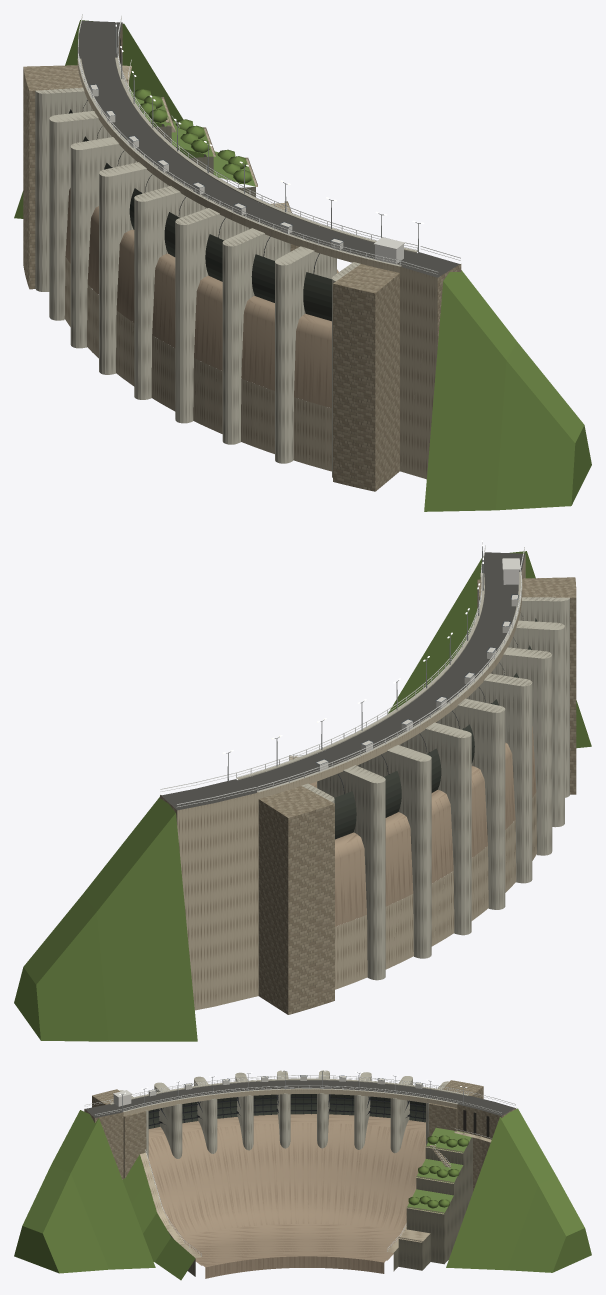
Rendered from rawal_dam_spillway.glb.
3 renders of one model, top to bottom at view 1: azimuth 30°, elevation 25°; view 2: azimuth 150°, elevation 25°; view 3: azimuth 270°, elevation 25°, orthographic. The views are drawn at different scales.
Visible parts, largest first — view 1: m_pier_concrete, m_hill_bank, m_deck_fascia, m_stone_masonry, m_chute_concrete, m_road_surface, m_gate_steel, m_white_rail, m_kerb, m_terrace_grass, m_hoist_housing, m_gate_hut; view 2: m_pier_concrete, m_hill_bank, m_deck_fascia, m_stone_masonry, m_road_surface, m_chute_concrete, m_white_rail, m_kerb, m_gate_steel, m_hoist_housing; view 3: m_chute_concrete, m_hill_bank, m_pier_concrete, m_stone_masonry, m_stained_wall, m_road_surface, m_deck_fascia, m_gate_steel, m_white_rail, m_terrace_grass, m_gate_arm, m_kerb (+1 smaller).
Part boxes in pixels (box(x1,y1,x2,y2)): m_pier_concrete: box(35, 87, 360, 477); m_hill_bank: box(14, 20, 591, 511); m_deck_fascia: box(64, 60, 437, 479); m_stone_masonry: box(23, 23, 461, 491); m_chute_concrete: box(65, 188, 338, 407); m_road_surface: box(77, 21, 459, 277); m_gate_steel: box(68, 109, 331, 321); m_white_rail: box(78, 14, 460, 274); m_kerb: box(77, 57, 417, 266); m_terrace_grass: box(129, 91, 255, 186); m_hoist_housing: box(90, 84, 343, 249); m_gate_hut: box(373, 237, 404, 264); m_pier_concrete: box(301, 597, 569, 980); m_hill_bank: box(14, 551, 591, 1041); m_deck_fascia: box(177, 553, 536, 1010); m_stone_masonry: box(160, 577, 576, 1014); m_road_surface: box(161, 552, 525, 810); m_chute_concrete: box(310, 726, 536, 926); m_white_rail: box(160, 545, 524, 806); m_kerb: box(236, 572, 522, 792); m_gate_steel: box(334, 618, 537, 839); m_hoist_housing: box(316, 595, 518, 770); m_chute_concrete: box(148, 1114, 425, 1278); m_hill_bank: box(14, 1108, 591, 1280); m_pier_concrete: box(119, 1070, 448, 1158); m_stone_masonry: box(84, 1080, 516, 1191); m_stained_wall: box(168, 1137, 472, 1276); m_road_surface: box(85, 1080, 514, 1117); m_deck_fascia: box(123, 1089, 491, 1258); m_gate_steel: box(148, 1094, 425, 1128); m_white_rail: box(84, 1075, 515, 1256); m_terrace_grass: box(407, 1127, 471, 1213); m_gate_arm: box(148, 1094, 425, 1127); m_kerb: box(110, 1078, 467, 1112).
Bounding box in the file's own units: 56.76 × 42.62 × 156.
Materials: 18 (5 with a texture image).
